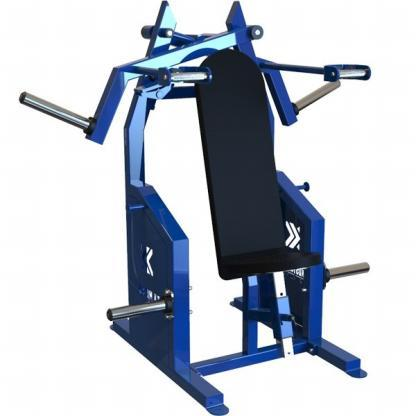shoulder press machine: (6, 0, 414, 413)
